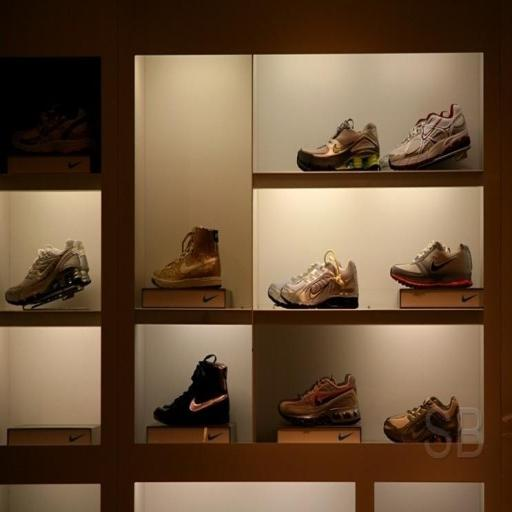shoe: (5, 240, 91, 307), (154, 354, 230, 426), (388, 104, 470, 170), (280, 250, 358, 308), (297, 119, 380, 171), (152, 227, 221, 288), (278, 374, 360, 425), (390, 241, 472, 288), (11, 108, 92, 154), (384, 396, 460, 442), (268, 262, 322, 308)
